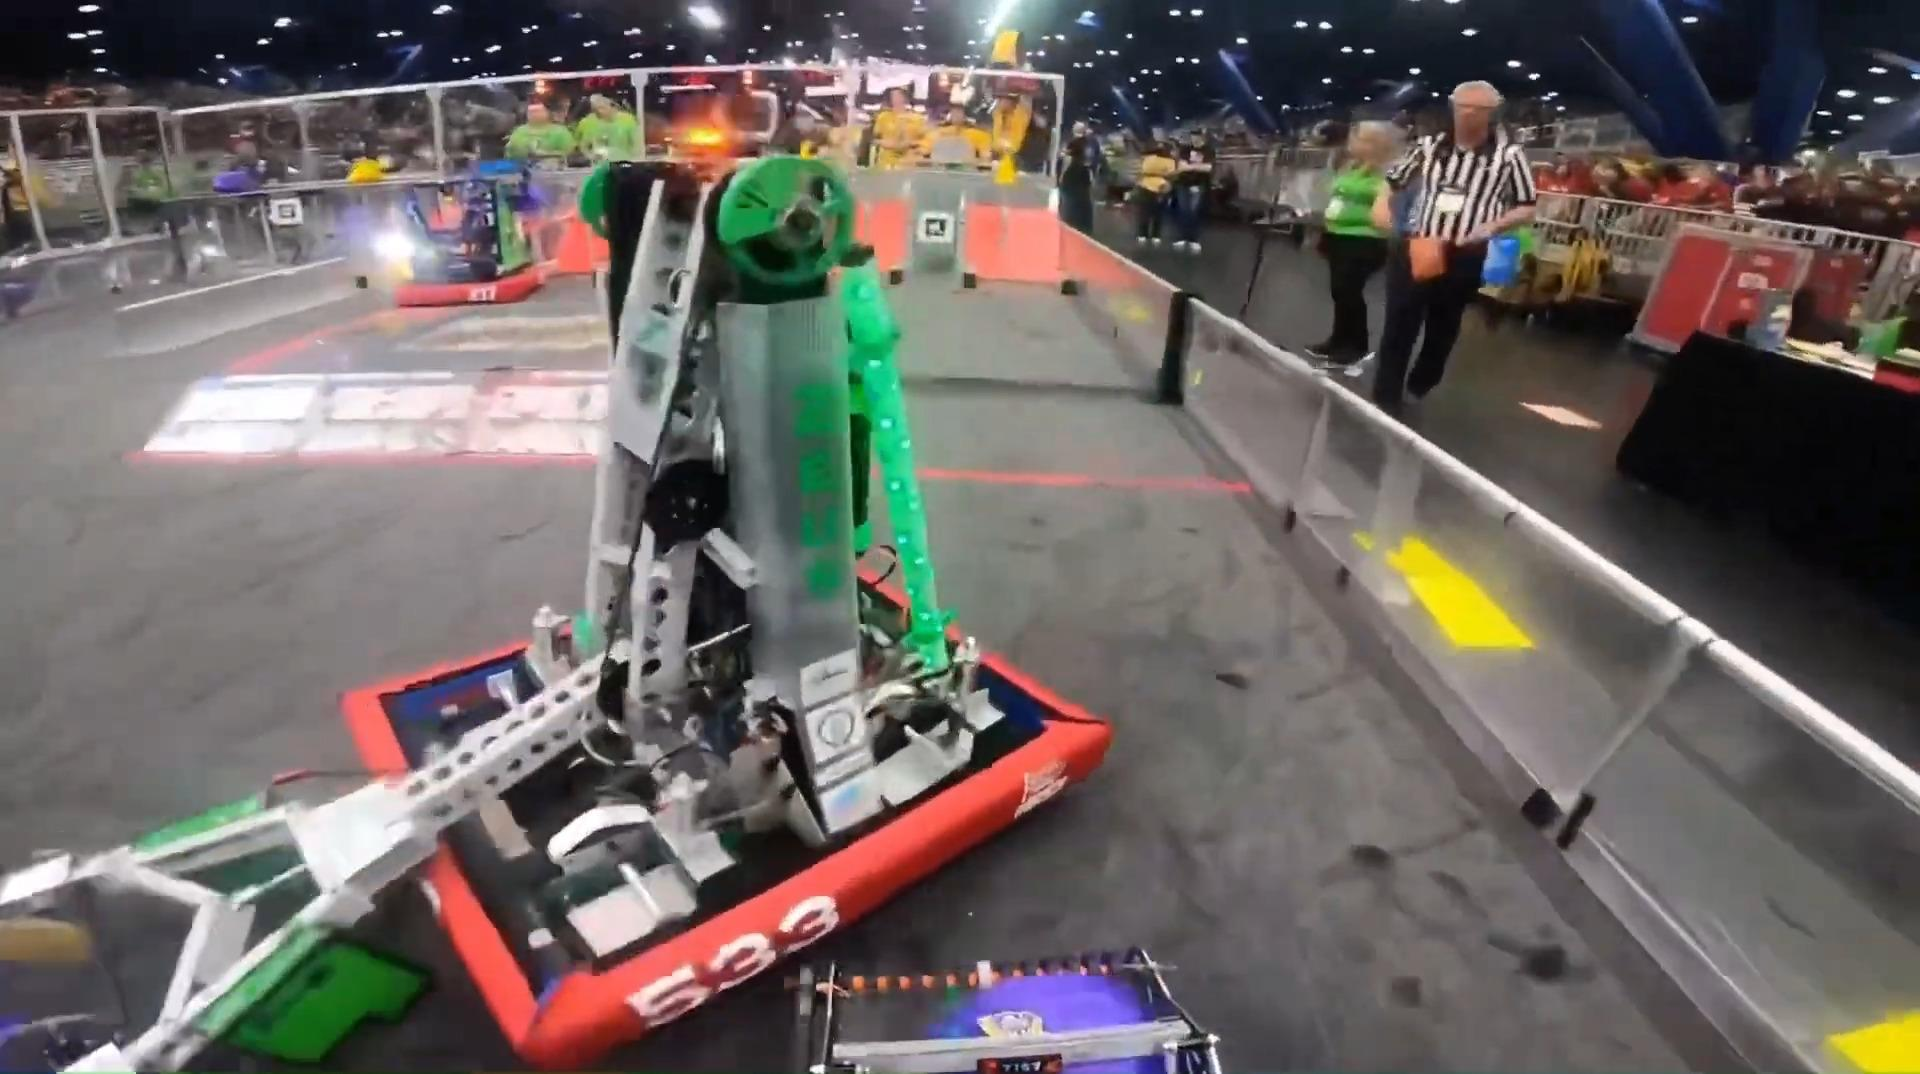robot: (0, 140, 1113, 1074), (390, 173, 546, 306)
